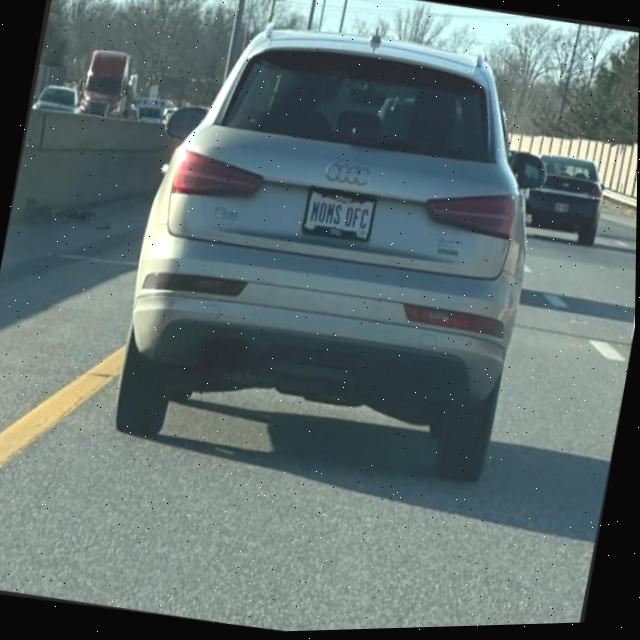LicensePlate: (301, 187, 378, 245)
